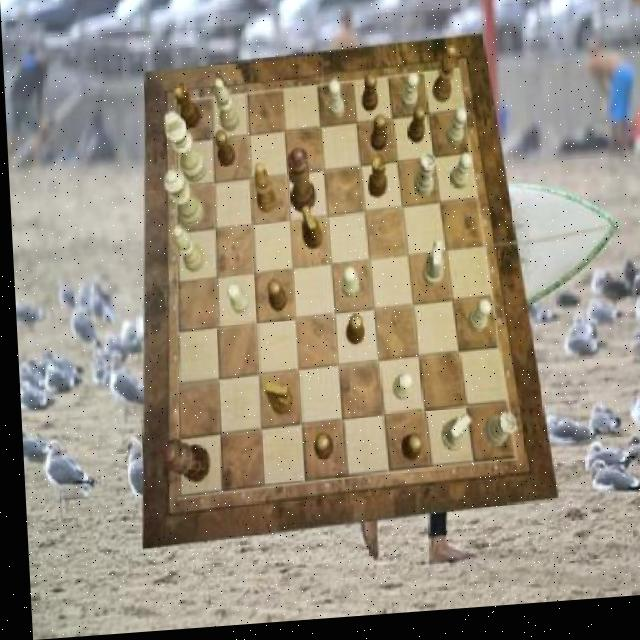bishop: (429, 52, 456, 111), (251, 166, 274, 218)
black-bishop: (159, 440, 205, 488)
black-king: (259, 383, 287, 419), (298, 210, 320, 255)
black-knight: (405, 111, 426, 149), (212, 133, 233, 170), (367, 120, 386, 158), (359, 78, 376, 118), (264, 283, 283, 318), (341, 320, 361, 352), (396, 440, 418, 467), (309, 437, 329, 464)
black-pawn: (284, 152, 314, 219)
black-queen: (172, 84, 200, 132), (364, 160, 385, 205)
black-rook: (171, 228, 203, 277), (213, 80, 239, 136)
white-bishop: (162, 112, 204, 188)
white-king: (436, 420, 467, 458), (418, 246, 442, 293)
white-knight: (446, 161, 471, 197), (443, 115, 466, 154), (462, 306, 487, 340), (223, 286, 247, 319), (399, 78, 419, 116), (327, 85, 344, 124), (337, 271, 356, 303), (387, 378, 408, 405)
white-pawn: (162, 169, 202, 233)
white-queen: (478, 419, 511, 455), (411, 160, 435, 205)
